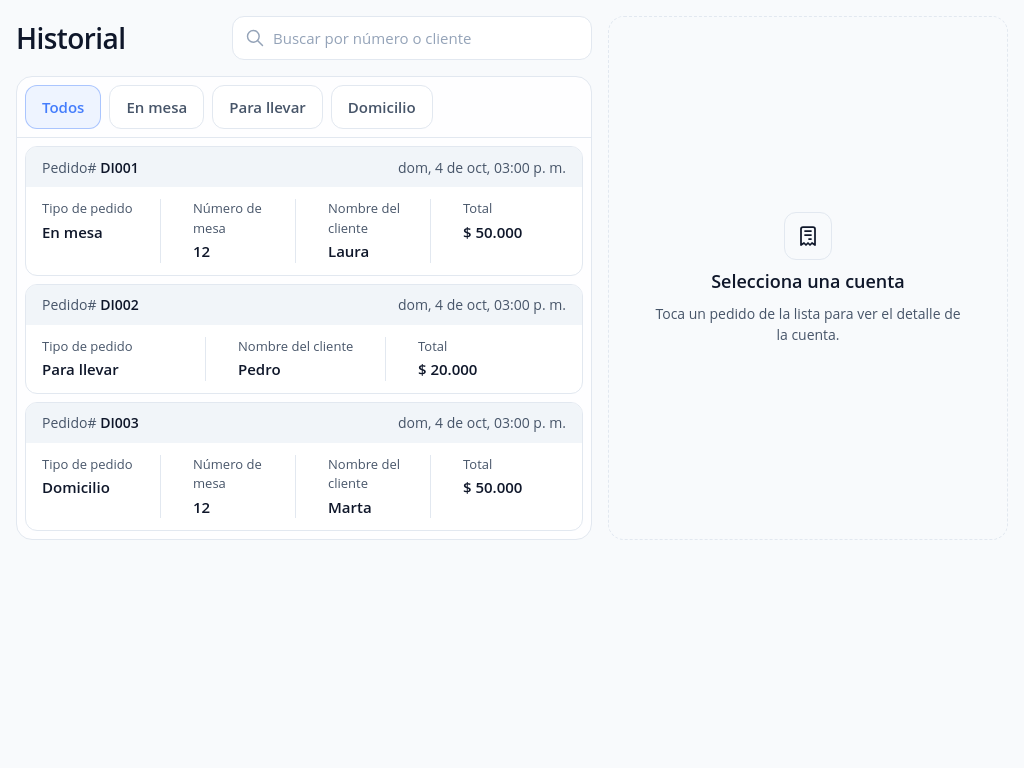
it: busca por número o cliente y filtra por tipo
Type "pedro" into the field labelled "Buscar por número o cliente" at (426, 38), box [273, 27, 579, 49]
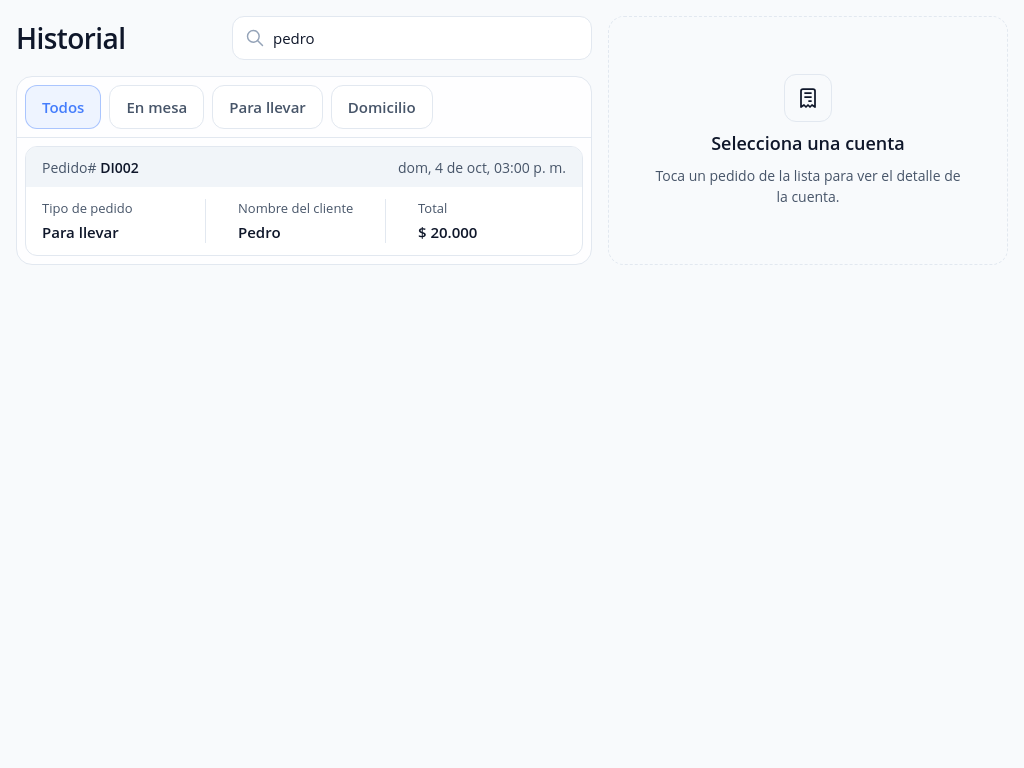
Replace the text in the field named "Buscar por número o cliente" with "#di003" at (426, 38), box [273, 27, 579, 49]
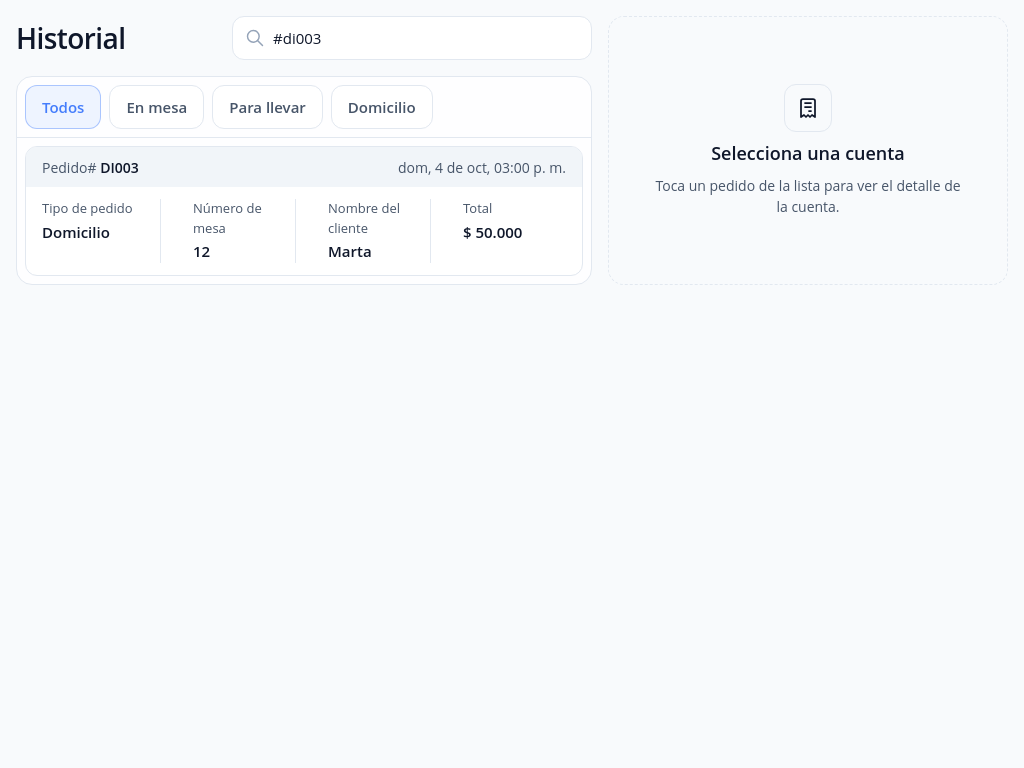
Clear the field named "Buscar por número o cliente" at (426, 38), box [273, 27, 579, 49]
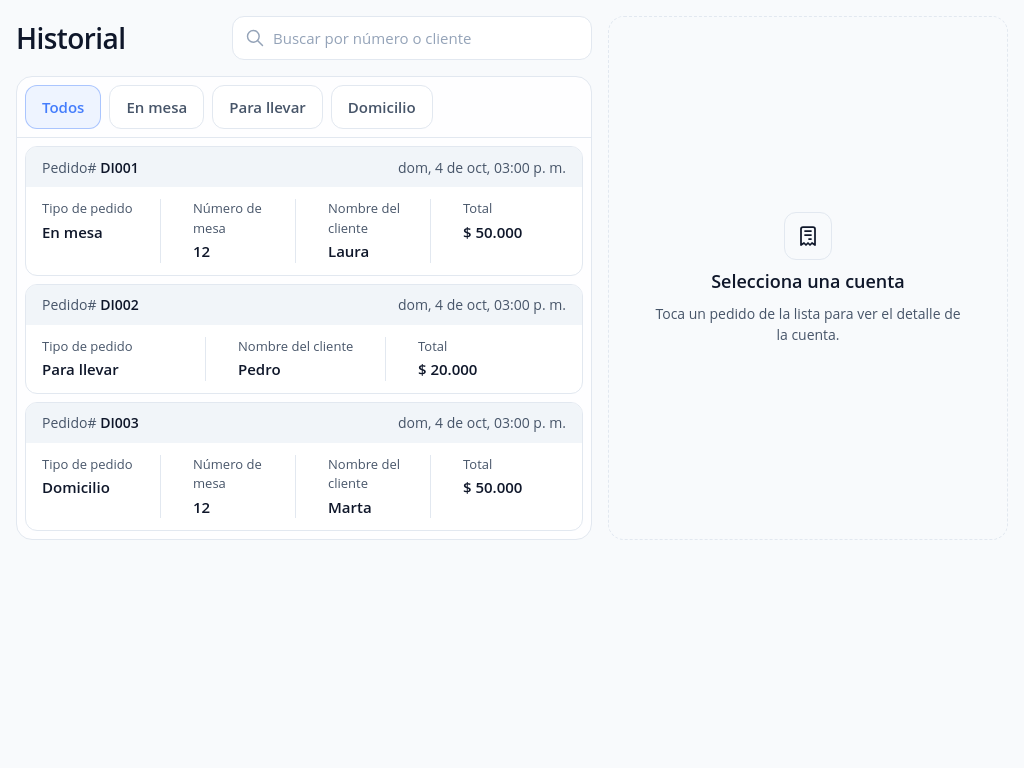
Click the button "Domicilio" at (382, 107), box [331, 85, 433, 129]
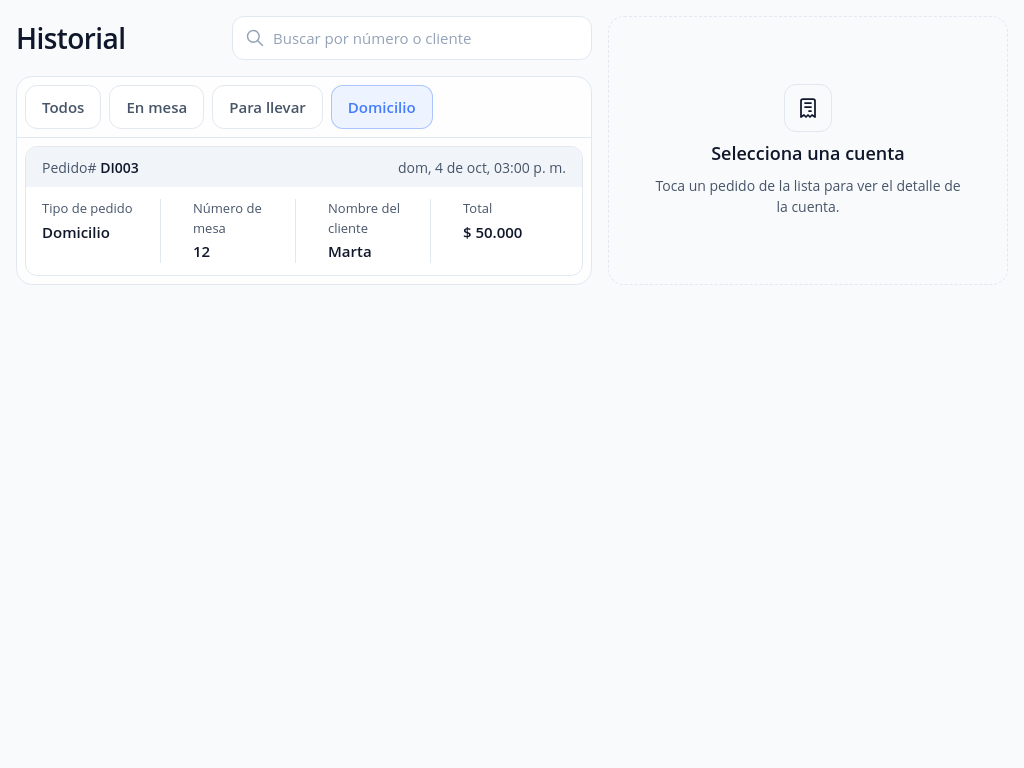
Click the button "Para llevar" at (268, 107), box [212, 85, 323, 129]
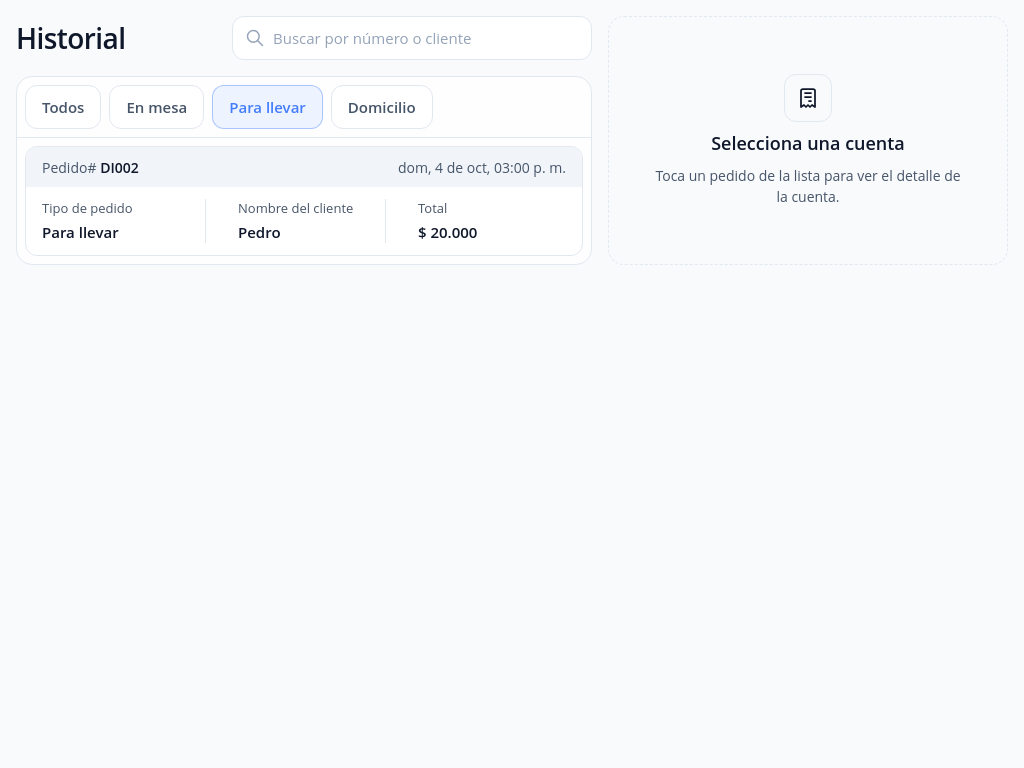
Type "Laura" into the field labelled "Buscar por número o cliente" at (426, 38), box [273, 27, 579, 49]
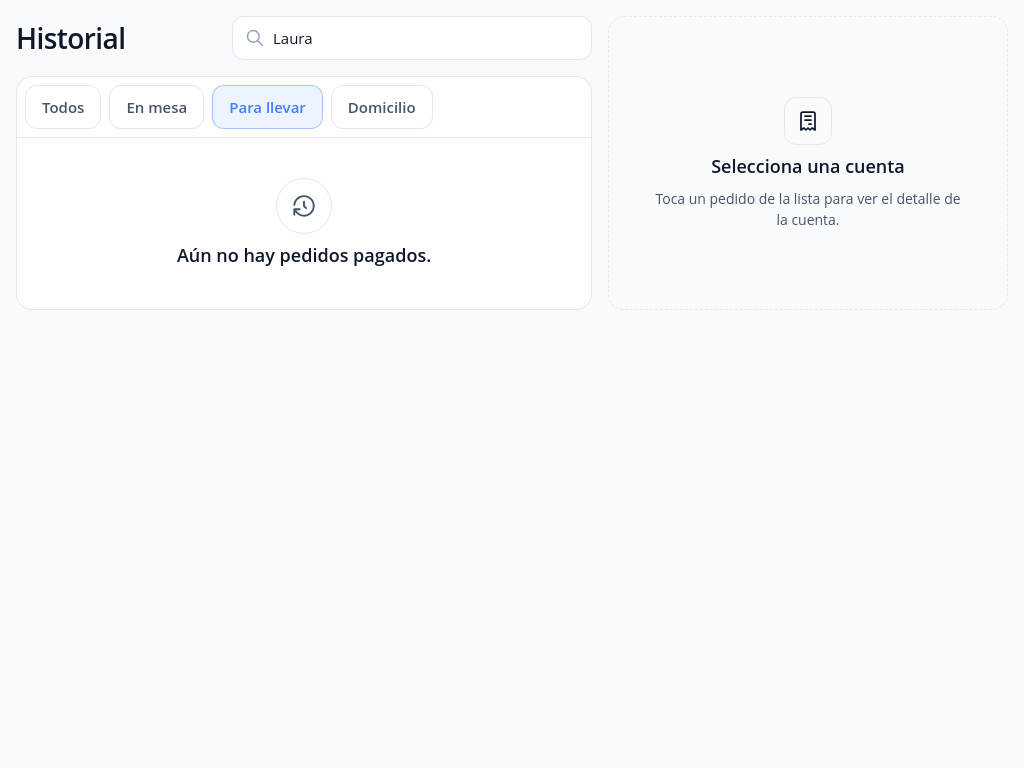
Now the text "Aún no hay pedidos pagados." is shown, box [177, 242, 431, 269]
